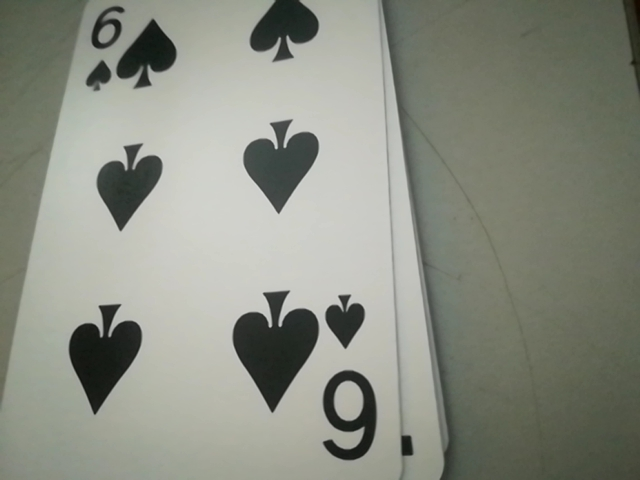ht 6: (314, 287, 385, 473), (74, 1, 123, 97)
